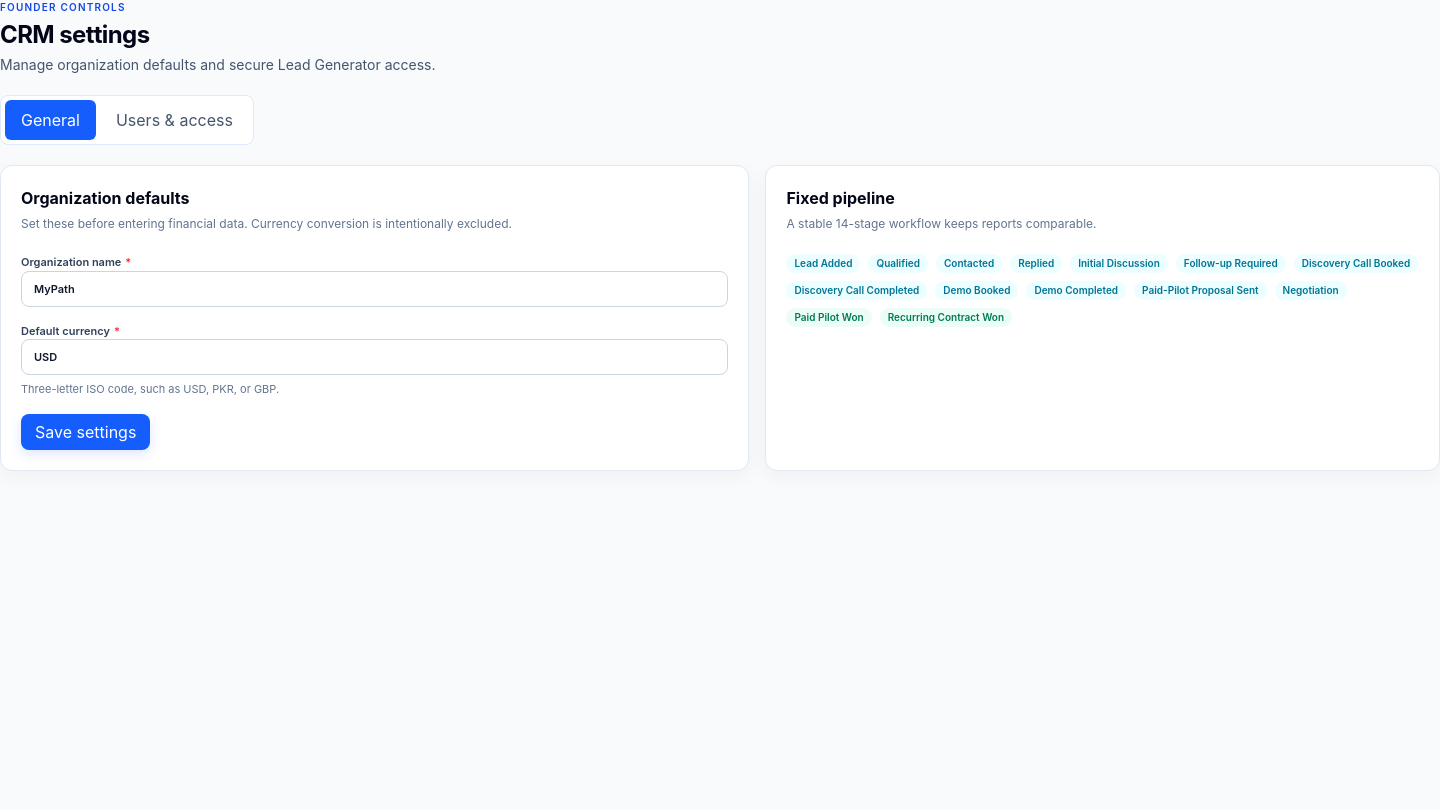
it: Founder team-member removal › requires exact email confirmation before invoking permanent removal
Step 1. Click the tab "Users & access" → (174,120), box [100, 100, 249, 140]
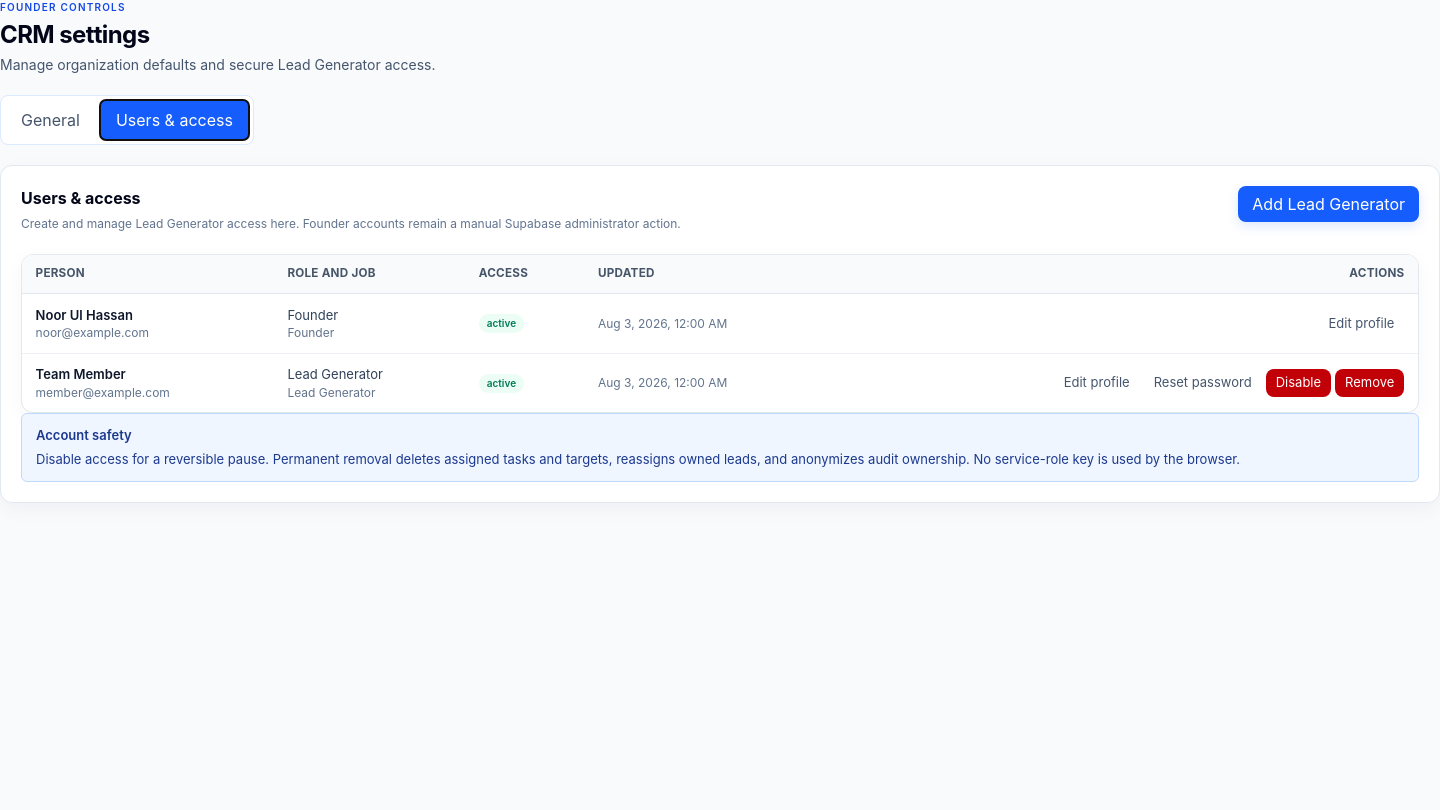
Step 2. Click the button "Remove" → (1370,383), box [1335, 369, 1404, 397]
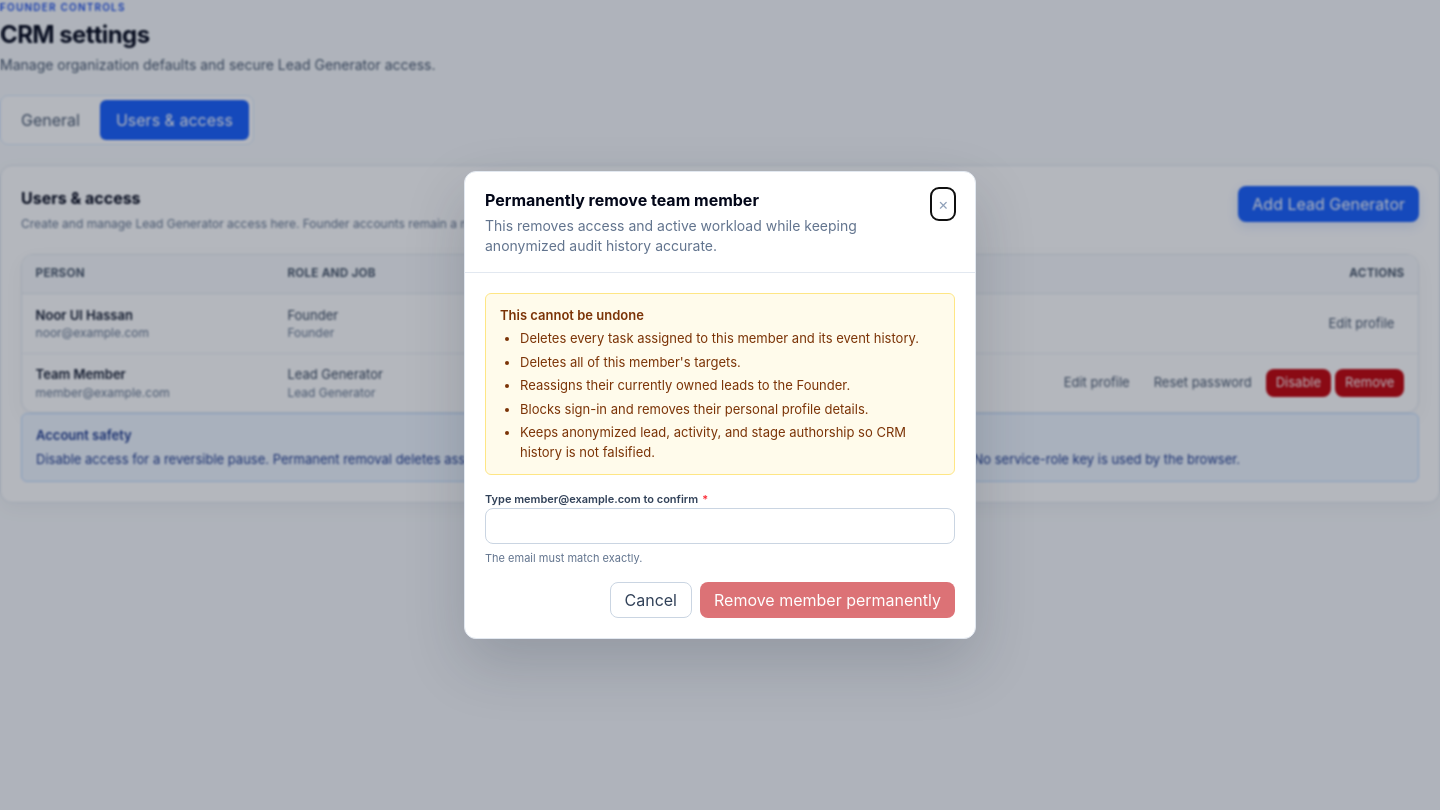
Expected: the button "Remove member permanently" is disabled, [700, 582, 955, 618]
Step 3. Type "member@example.com" into the field → (720,526), box [485, 508, 955, 544]
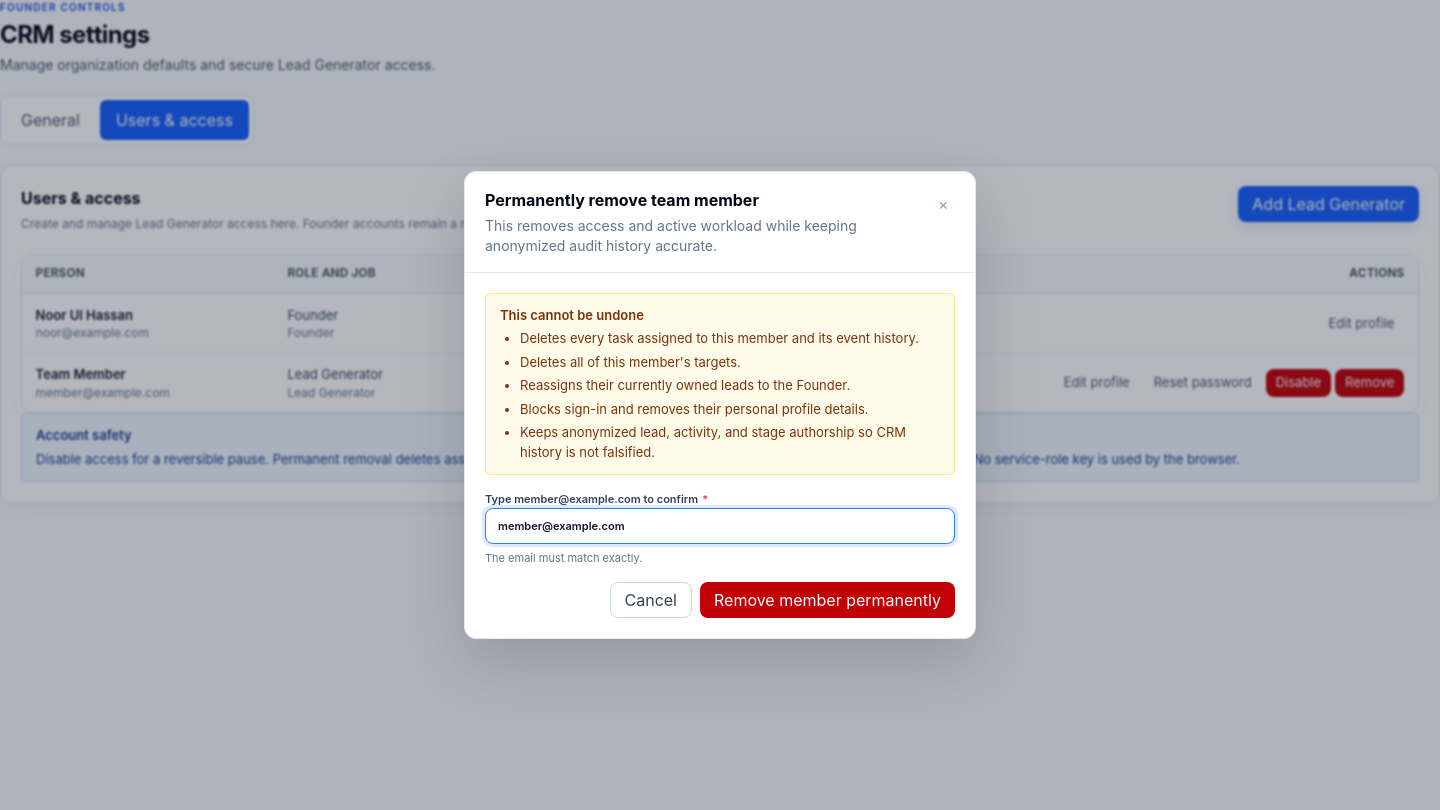
Expected: the button "Remove member permanently" is enabled
Step 4. Click the button "Remove member permanently" → (828,600), box [700, 582, 955, 618]
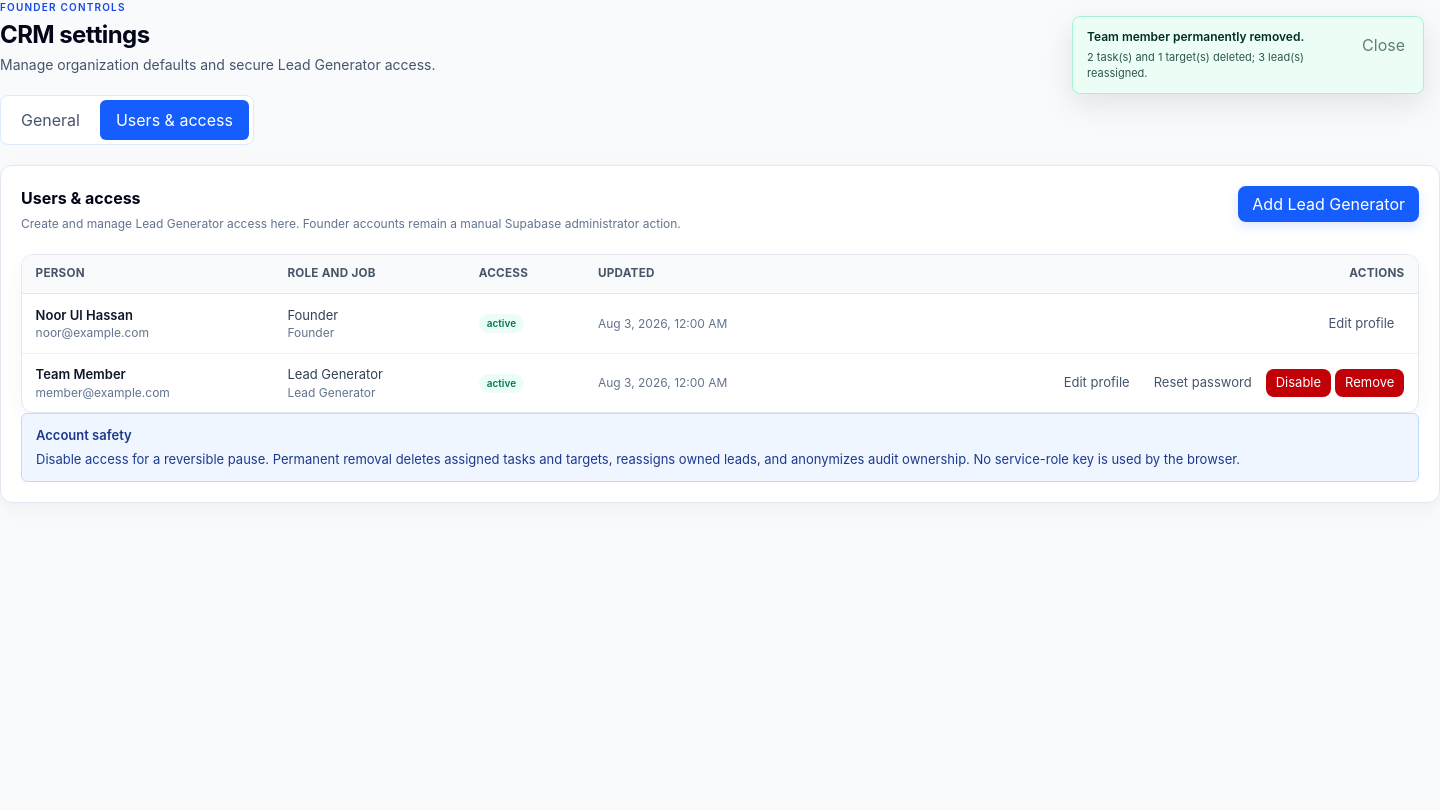
Expected: the text "Team member permanently removed." is shown, [1087, 29, 1304, 44]
